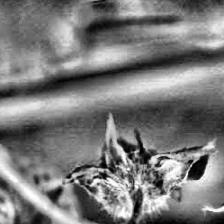Gray Mold: (60, 114, 217, 224)
